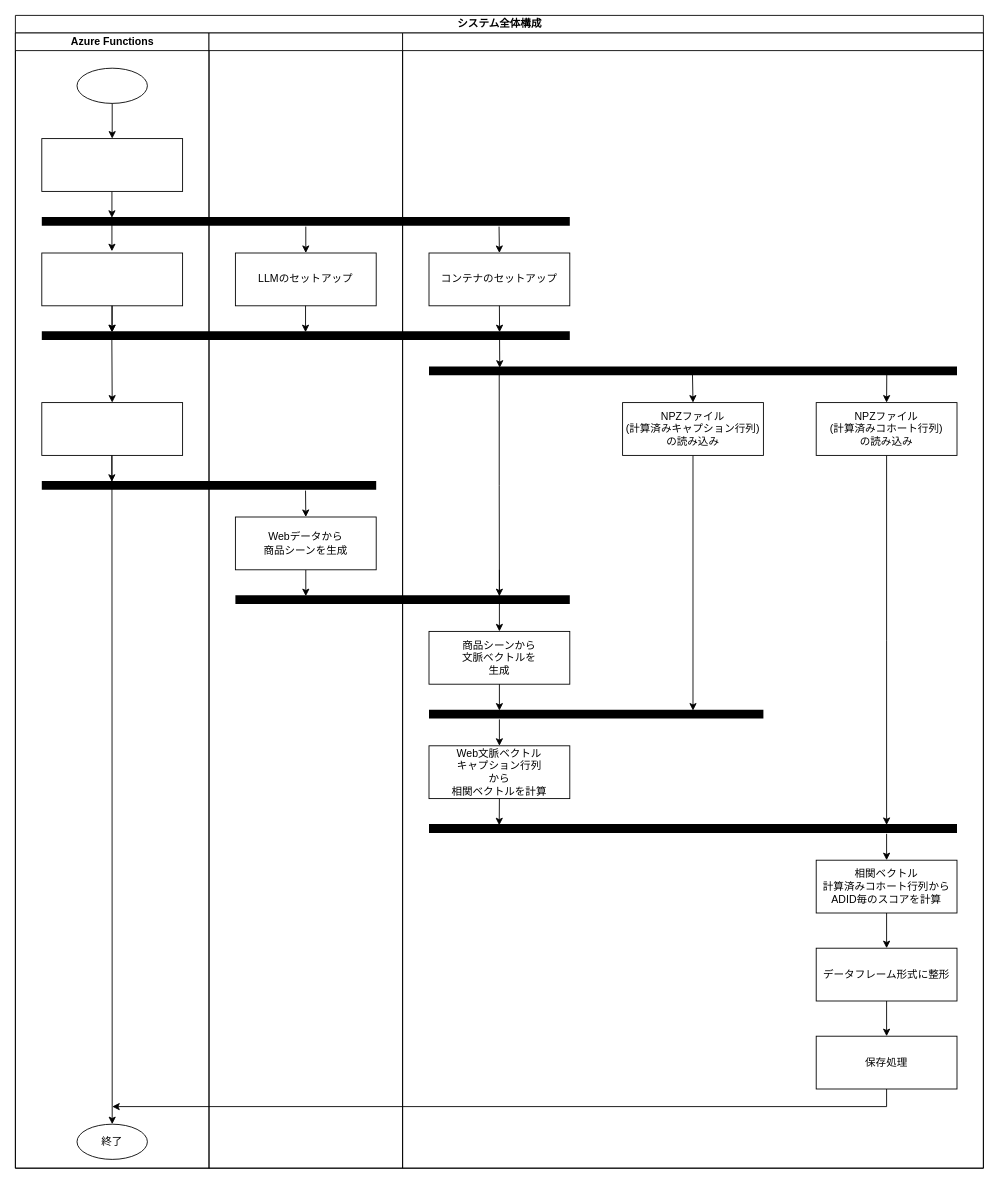
This 999x1184 diagram has some shape labels left out. The box of each missing label's shape, as (x1, y1, x2, y2) in pixels:
Azure AI Foundry: (208, 32, 403, 1168)
Dynamic Sessions: (402, 32, 983, 1168)
入力されたURLの Webデータ取得: (41, 402, 183, 455)
環境変数の読み込み (dotenv): (41, 138, 183, 191)
開始: (76, 67, 147, 103)
関数アプリのセットアップ: (41, 252, 183, 306)
